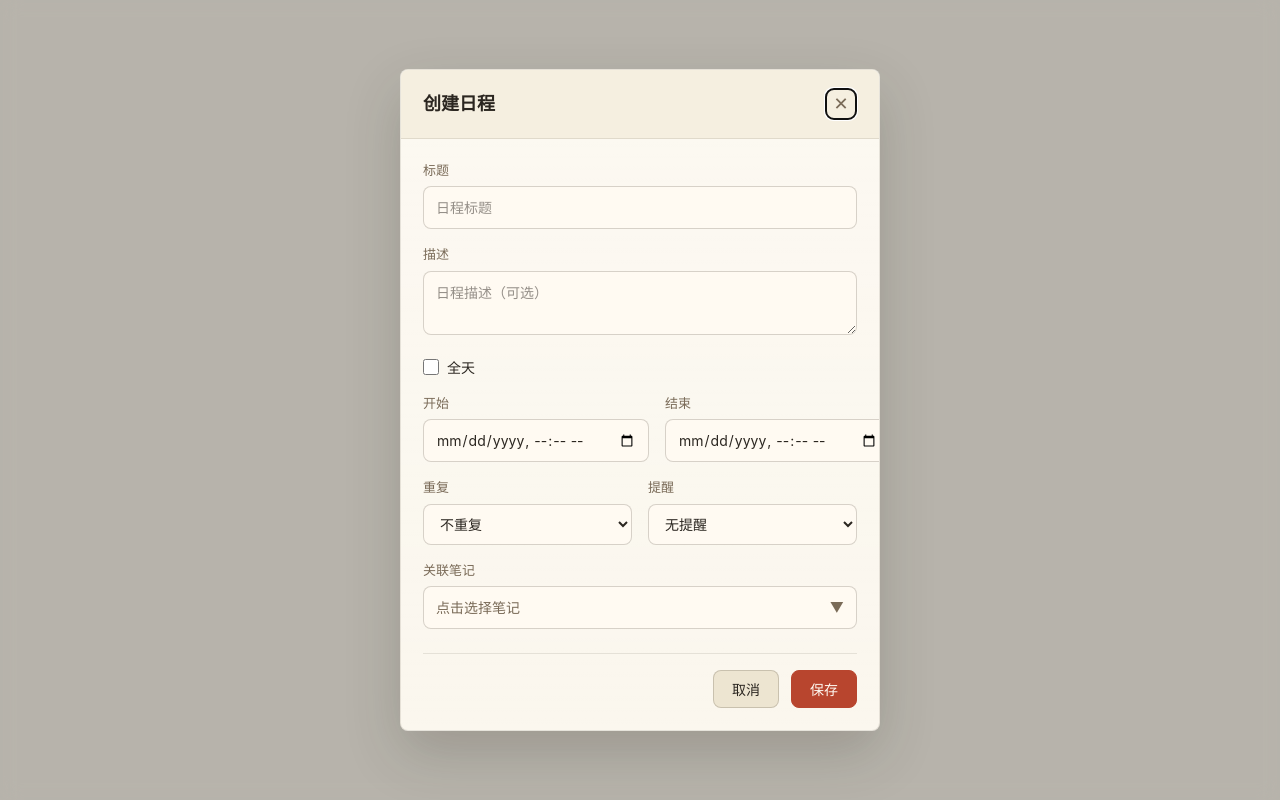
it: ScheduleForm behavior › shows a visible error when schedule creation fails
Type "Failing schedule" into the field labelled "标题" at (640, 208), box [423,186,857,229]
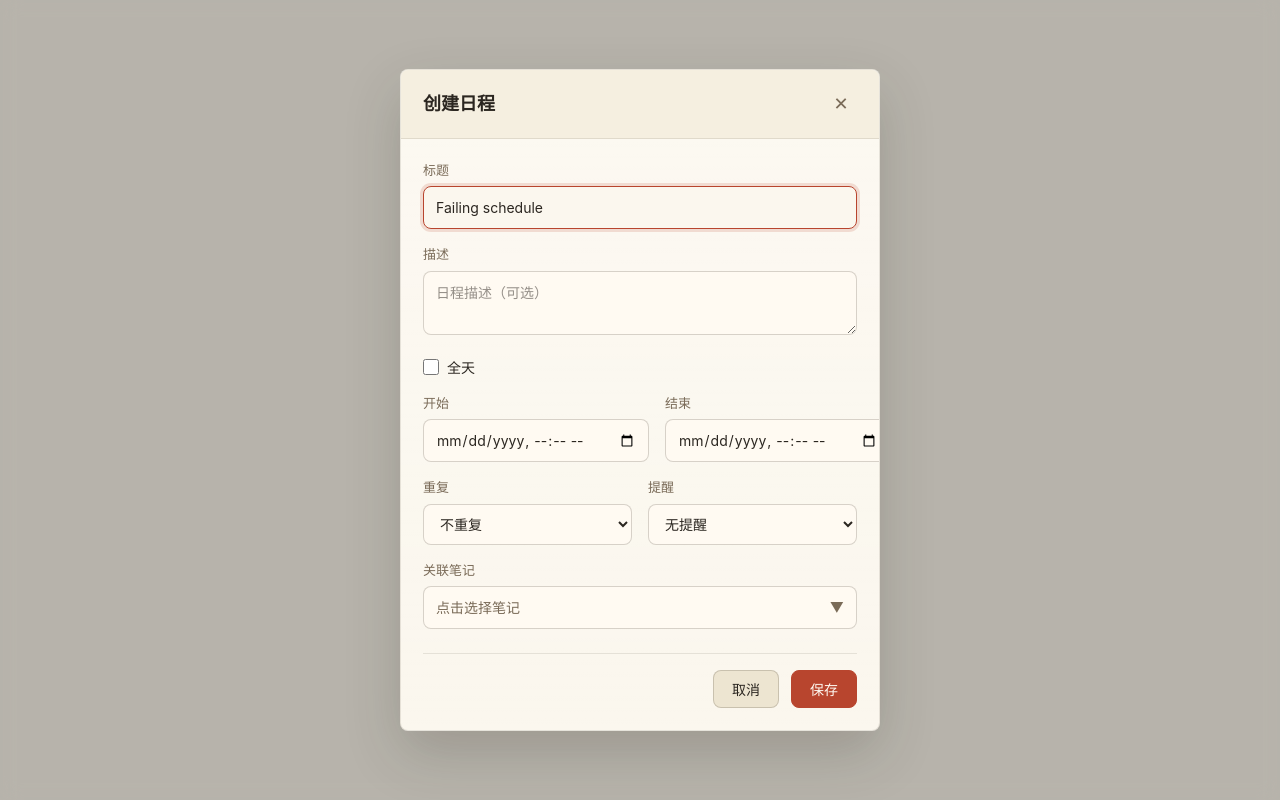
Type "2026-06-24T10:00" into the field labelled "开始" at (536, 441), box [423,419,649,462]
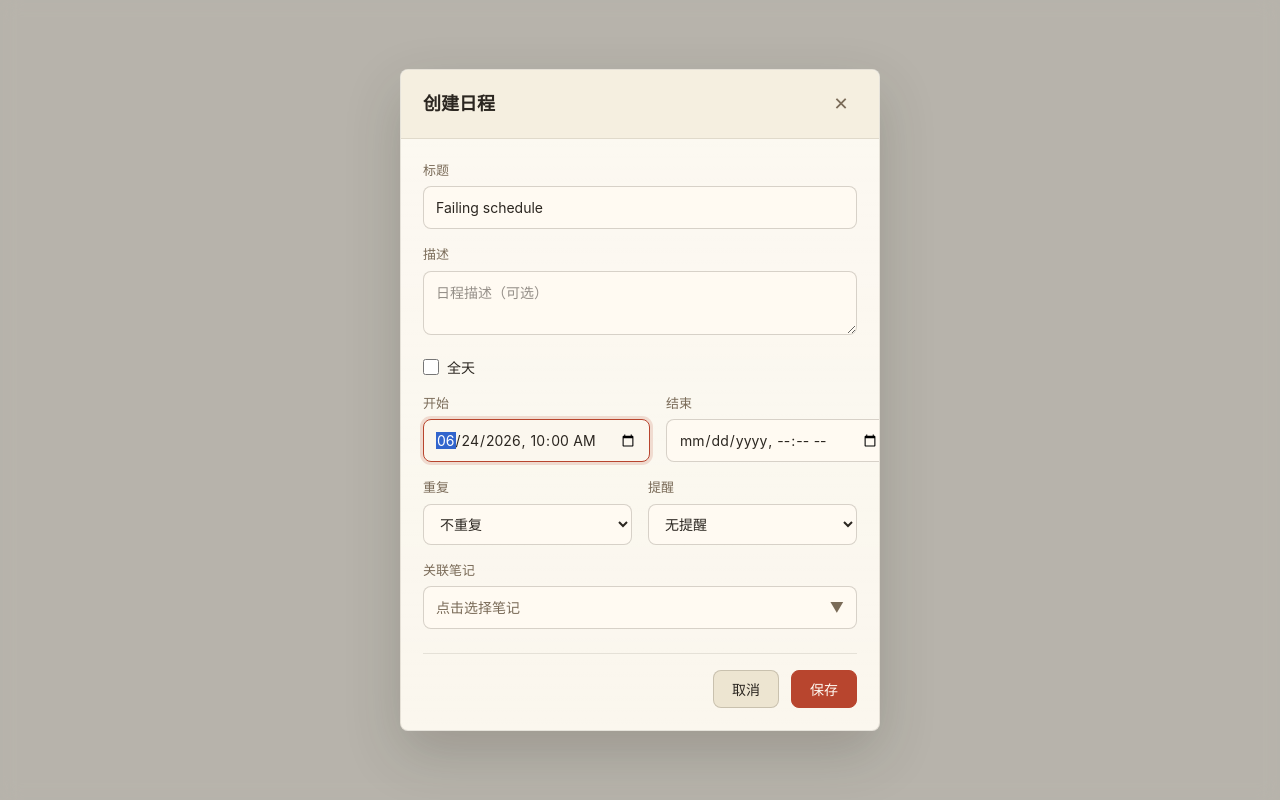
Click the button "保存" at (824, 689), box [791,670,857,708]
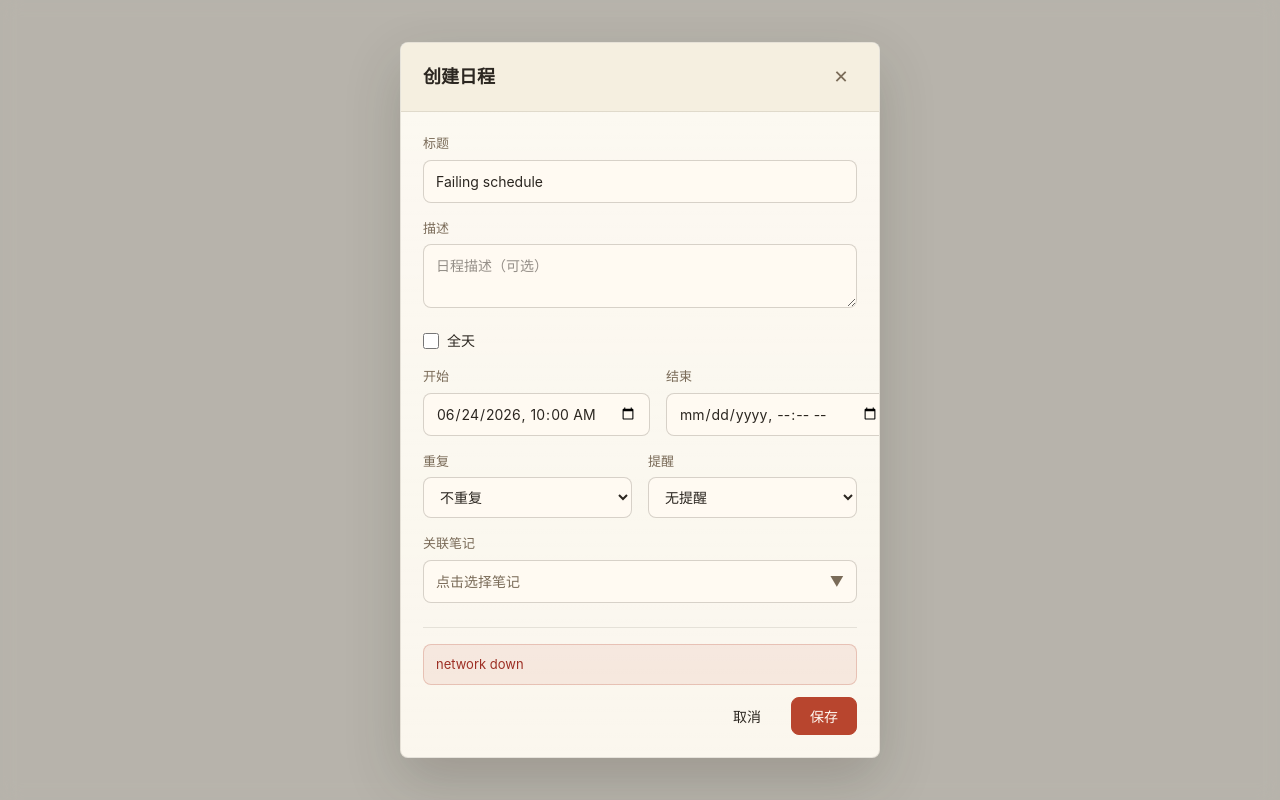
Result: the message reads "network down" at [436,656,524,672]
